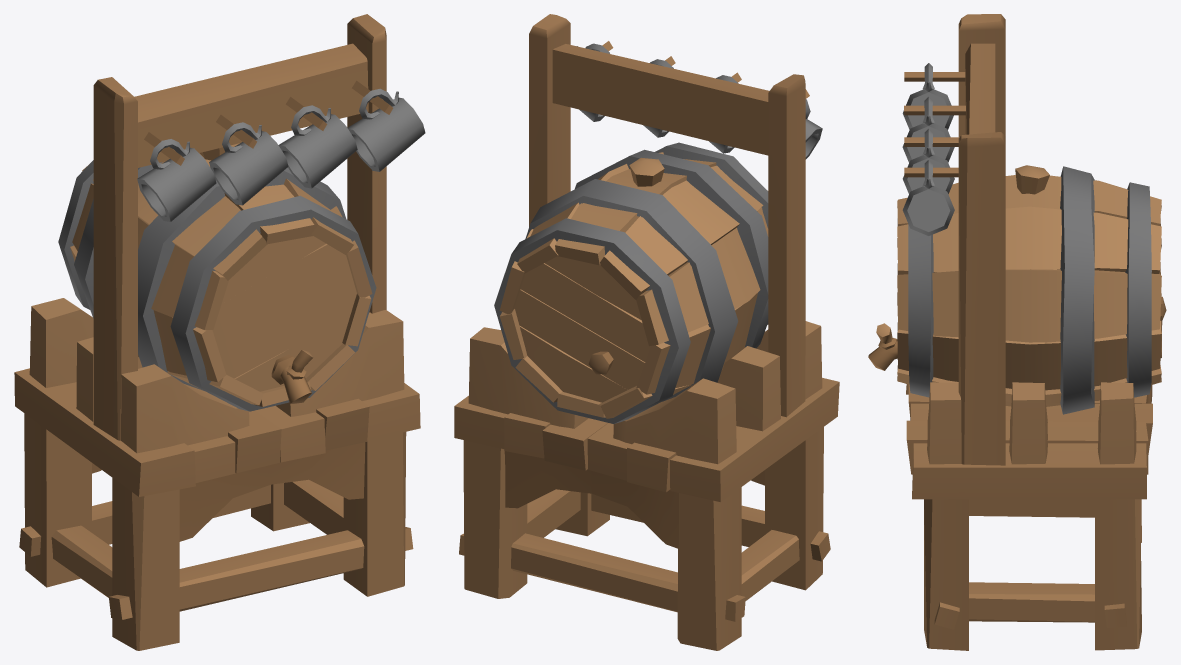
File: Barrel_L.fbx
3 views of the same model, side by side, from view 1: azimuth 30°, elevation 25°; view 2: azimuth 150°, elevation 25°; view 3: azimuth 270°, elevation 25° (orthographic). The views are drawn at different scales.
Visible parts, largest first — view 1: Barrel_L; view 2: Barrel_L; view 3: Barrel_L.
Part boxes in pixels (left/top/right/bottom): Barrel_L: left=14, top=14, right=425, bottom=650; Barrel_L: left=454, top=14, right=839, bottom=650; Barrel_L: left=868, top=14, right=1166, bottom=650.
Bounding box in the file's own units: 104 × 182 × 96.26.
